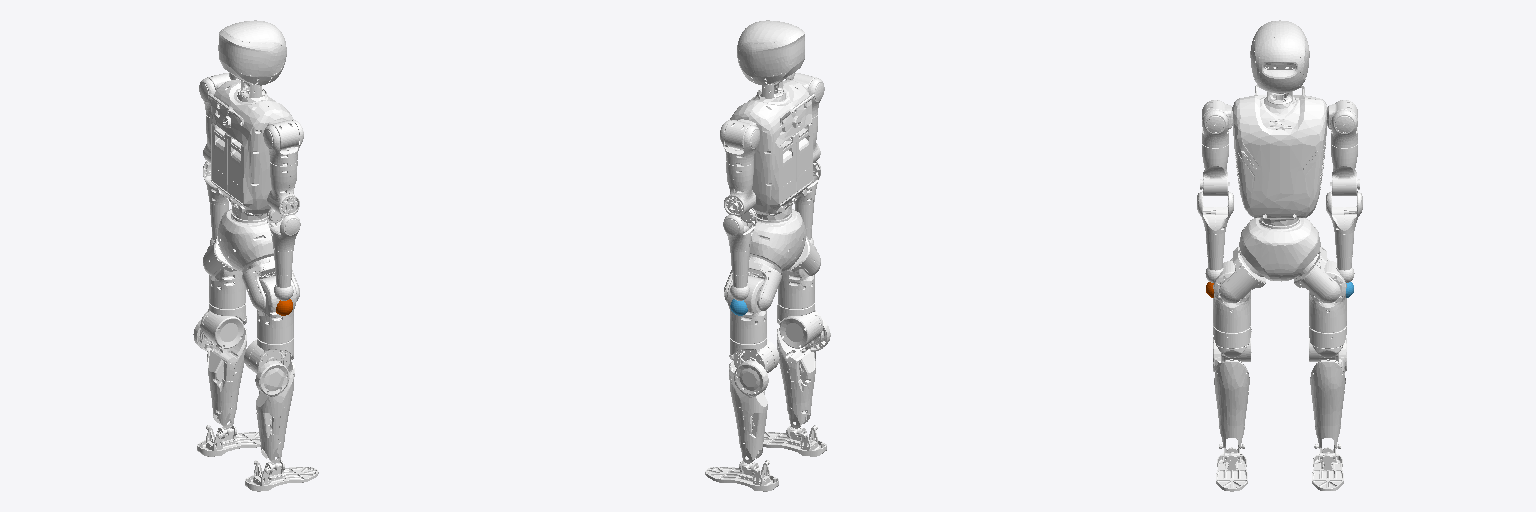
--- Render facts (derived) ---
Views: 3 orthographic renders of the robot side by side, from view 1: azimuth 30°, elevation 25°; view 2: azimuth 150°, elevation 25°; view 3: azimuth 270°, elevation 25°.
Model biped_s14 with 24 links and 23 joints (21 revolute, 2 fixed), rooted at base_link, posed all joints at 0.
Links seen in each view (by area): view 1: base_link, head_pitch, leg_r4_link, leg_l4_link, waist_yaw_link, zarm_r4_link, leg_r2_link, leg_l3_link, zarm_r3_link, leg_r6_link, leg_l2_link, leg_l6_link (+6 smaller); view 2: base_link, head_pitch, leg_l4_link, leg_r4_link, waist_yaw_link, zarm_l4_link, leg_l2_link, leg_r3_link, zarm_l3_link, leg_l6_link, leg_r2_link, leg_r6_link (+6 smaller); view 3: base_link, waist_yaw_link, head_pitch, leg_r4_link, leg_l4_link, zarm_r4_link, zarm_l4_link, leg_r2_link, leg_l2_link, zarm_r3_link, zarm_l3_link, leg_l1_link (+7 smaller).
Boxes of the visible links, x1,y1,x2,y2 form: base_link: (208,80,294,219); head_pitch: (218,20,286,85); leg_r4_link: (255,361,294,463); leg_l4_link: (193,319,246,428); waist_yaw_link: (218,209,273,272); zarm_r4_link: (267,208,300,315); leg_r2_link: (257,276,296,343); leg_l3_link: (200,303,246,348); zarm_r3_link: (267,161,299,216); leg_r6_link: (245,460,318,491); leg_l2_link: (207,244,245,308); leg_l6_link: (197,425,260,456); base_link: (729,80,815,219); head_pitch: (737,20,804,85); leg_l4_link: (729,360,768,463); leg_r4_link: (777,319,830,428); waist_yaw_link: (749,209,805,272); zarm_l4_link: (723,208,756,315); leg_l2_link: (727,276,766,343); leg_r3_link: (777,303,822,348); zarm_l3_link: (724,161,755,216); leg_l6_link: (705,460,778,491); leg_r2_link: (778,245,816,308); leg_r6_link: (763,425,826,456); base_link: (1232,85,1327,225); waist_yaw_link: (1239,218,1320,281); head_pitch: (1250,20,1309,92); leg_r4_link: (1213,337,1249,447); leg_l4_link: (1310,338,1346,447); zarm_r4_link: (1197,191,1233,297); zarm_l4_link: (1326,191,1362,297); leg_r2_link: (1213,261,1250,337); leg_l2_link: (1309,261,1346,337); zarm_r3_link: (1200,144,1229,195); zarm_l3_link: (1330,144,1359,195); leg_l1_link: (1294,247,1340,302).
Size in the robot's own frame: 0.2167 by 0.4233 by 1.24 metres.
Meshes: 24 distinct files referenced, 24 mesh visuals loaded (24 binary STL).

The robot description file, URDF, robot "biped_s14":
<?xml version='1.0' encoding='utf-8'?>
<robot name="biped_s14">
  <mujoco>
    <compiler meshdir="../meshes/" balanceinertia="true" discardvisual="false" />
  </mujoco>
  <!-- <link name="dummy_link" />   -->
  <link name="base_link">
    <inertial>
      <origin xyz="-0.00602072 -0.00050080 0.14657555" rpy="0 0 0" />
      <mass value="8.0177760" />
      <inertia ixx="0.08599049" ixy="0.0" ixz="0.0" iyy="0.06733455" iyz="0.0" izz="0.04204287" />
    </inertial>
    <visual>
      <origin xyz="0 0 0" rpy="0 0 0" />
      <geometry>
        <mesh filename="../meshes/torso.STL" />
      </geometry>
      <material name="1">
        <color rgba="1 1 1 1" />
      </material>
    </visual>
    <collision>
      <origin xyz="0.01 0 0.14" rpy="0 0 0" />
      <geometry>
        <box size="0.14 0.2 0.26" />
      </geometry>
    </collision>
    <collision>
      <origin xyz="-0.09 0 0.285" rpy="1.5708 0 0" />
      <geometry>
        <capsule radius="0.005" length="0.1" />
      </geometry>
    </collision>
  </link>
  <!-- <joint name="dummy_to_base_link" type="floating">
    <origin xyz="0 0 0" rpy="0 0 0" />
    <parent link="dummy_link" />
    <child link="base_link" />
  </joint> -->
  <link name="waist_yaw_link">
    <inertial>
      <origin xyz="0.00152560 0.00013413 -0.11927572" rpy="0 0 0" />
      <mass value="4.60775998" />
      <inertia ixx="0.02101970" ixy="0.0" ixz="0.0" iyy="0.01458628" iyz="0.0" izz="0.01454007" />
    </inertial>
    <visual>
      <origin xyz="0 0 0" rpy="0 0 0" />
      <geometry>
        <mesh filename="../meshes/waist.STL" />
      </geometry>
      <material name="">
        <color rgba="1 1 1 1" />
      </material>
    </visual>
    <collision>
      <origin xyz="0.005 0 -0.11" rpy="0.786 0 0" />
      <geometry>
        <box size="0.12 0.14 0.14" />
      </geometry>
    </collision>
  </link>
  <joint name="waist_yaw_joint" type="revolute">
    <origin xyz="0 0 0" rpy="0 0 0" />
    <parent link="base_link" />
    <child link="waist_yaw_link" />
    <axis xyz="0 0 1" />
    <limit lower="-2.61799387799149" upper="2.61799387799149" effort="50" velocity="8.37333333333333" />
  </joint>
  <link name="leg_l1_link">
    <inertial>
      <origin xyz="-0.00211316 -0.03290476 0.03337117" rpy="0 0 0" />
      <mass value="0.42877618" />
      <inertia ixx="0.00068733" ixy="0.00003303" ixz="-0.00003348" iyy="0.00109695" iyz="0.00004173" izz="0.00108874" />
    </inertial>
    <visual>
      <origin xyz="0 0 0" rpy="0 0 0" />
      <geometry>
        <mesh filename="../meshes/l_leg_pitch.STL" />
      </geometry>
      <material name="">
        <color rgba="1 1 1 1" />
      </material>
    </visual>
    <collision>
      <origin xyz="-0.007 -0.015 0.015" rpy="0.786 0 0" />
      <geometry>
        <box size="0.1 0.08 0.1" />
      </geometry>
    </collision>
  </link>
  <joint name="leg_l1_joint" type="revolute">
    <origin xyz="0.0 0.12151 -0.225" rpy="0 0 0" />
    <parent link="waist_yaw_link" />
    <child link="leg_l1_link" />
    <axis xyz="0 0.70711 -0.70711" />
    <limit lower="-3.228" upper="2.356" effort="180" velocity="23.55" />
    <dynamics damping="0.2" friction="0.1" />
  </joint>
  <link name="leg_l2_link">
    <inertial>
      <origin xyz="0.00559029 -0.00000102 -0.04097574" rpy="0 0 0" />
      <mass value="2.878" />
      <inertia ixx="0.00945700" ixy="0.00000006" ixz="-0.00062510" iyy="0.00895017" iyz="-0.00000229" izz="0.00346366" />
    </inertial>
    <visual>
      <origin xyz="0 0 0" rpy="0 0 0" />
      <geometry>
        <mesh filename="../meshes/l_leg_roll.STL" />
      </geometry>
      <material name="">
        <color rgba="1 1 1 1" />
      </material>
    </visual>
  </link>
  <joint name="leg_l2_joint" type="revolute">
    <origin xyz="0 0 0" rpy="0 0 0" />
    <parent link="leg_l1_link" />
    <child link="leg_l2_link" />
    <axis xyz="1 0 0" />
    <limit lower="-0.845961088441652" upper="2.41413942135856" effort="100" velocity="41.3433333333333" />
    <dynamics damping="0.2" friction="0.1" />
  </joint>
  <link name="leg_l3_link">
    <inertial>
      <origin xyz="-0.02467269 0.00082042 -0.20741352" rpy="0 0 0" />
      <mass value="1.686" />
      <inertia ixx="0.00234676" ixy="-0.00004675" ixz="-0.00029335" iyy="0.00304844" iyz="-0.00004121" izz="0.00239404" />
    </inertial>
    <visual>
      <origin xyz="0 0 0" rpy="0 0 0" />
      <geometry>
        <mesh filename="../meshes/l_leg_yaw.STL" />
      </geometry>
      <material name="">
        <color rgba="1 1 1 1" />
      </material>
    </visual>
    <collision>
      <origin xyz="-0.021 0 -0.182" rpy="1.57 0 0" />
      <geometry>
        <capsule radius="0.045" length="0.03" />
      </geometry>
    </collision>
  </link>
  <joint name="leg_l3_joint" type="revolute">
    <origin xyz="0 0 0" rpy="0 0 0" />
    <parent link="leg_l2_link" />
    <child link="leg_l3_link" />
    <axis xyz="0 0 1" />
    <limit lower="-1.658" upper="1.658" effort="100" velocity="41.3433333333333" />
    <dynamics damping="0.2" friction="0.1" />
  </joint>
  <link name="leg_l4_link">
    <inertial>
      <origin xyz="0.02466958 0.00364836 -0.12511514" rpy="0 0 0" />
      <mass value="2.0" />
      <inertia ixx="0.00661542" ixy="0.00007032" ixz="-0.00014937" iyy="0.00694493" iyz="-0.00045150" izz="0.00163682" />
    </inertial>
    <visual>
      <origin xyz="0 0 0" rpy="0 0 0" />
      <geometry>
        <mesh filename="../meshes/l_knee.STL" />
      </geometry>
      <material name="">
        <color rgba="1 1 1 1" />
      </material>
    </visual>
    <collision>
      <origin xyz="0.021 0 -0.13" rpy="0 0 0" />
      <geometry>
        <capsule radius="0.04" length="0.15" />
      </geometry>
    </collision>
    <collision>
      <origin xyz="0.07 0 0.01" rpy="1.57 0 0" />
      <geometry>
        <capsule radius="0.005" length="0.04" />
      </geometry>
    </collision>
    <collision>
      <origin xyz="0.072 0 -0.05" rpy="1.57 0 0" />
      <geometry>
        <capsule radius="0.005" length="0.02" />
      </geometry>
    </collision>
  </link>
  <joint name="leg_l4_joint" type="revolute">
    <origin xyz="-0.030 0 -0.213" rpy="0 0 0" />
    <parent link="leg_l3_link" />
    <child link="leg_l4_link" />
    <axis xyz="0 1 0" />
    <limit lower="0.0" upper="2.61799387799149" effort="180" velocity="23.55" />
    <dynamics damping="0.2" friction="0.1" />
  </joint>
  <link name="leg_l5_link">
    <inertial>
      <origin xyz="0.0 0.0 0.0" rpy="0 0 0" />
      <mass value="0.06923766 " />
      <inertia ixx="6.7e-06" ixy="0.0" ixz="0.0" iyy="6.7e-06" iyz="0.0" izz="1.172e-05" />
    </inertial>
    <visual>
      <origin xyz="0 0 0" rpy="0 0 0" />
      <geometry>
        <mesh filename="../meshes/l_foot_pitch.STL" />
      </geometry>
      <material name="">
        <color rgba="1 1 1 1" />
      </material>
    </visual>
  </link>
  <joint name="leg_l5_joint" type="revolute">
    <origin xyz="0.030 0 -0.270" rpy="0 0 0" />
    <parent link="leg_l4_link" />
    <child link="leg_l5_link" />
    <axis xyz="0 1 0" />
    <limit lower="-0.872664625997165" upper="0.523598775598299" effort="36" velocity="23.0266666666667" />
    <dynamics damping="0.2" friction="0.1" />
  </joint>
  <link name="leg_l6_link">
    <inertial>
      <origin xyz="-0.00410545 0 -0.03109022" rpy="0 0 0" />
      <mass value="0.4" />
      <inertia ixx="0.00020983" ixy="0.0" ixz="0.00010197" iyy="0.00090207" iyz="0.0" izz="0.00094979" />
    </inertial>
    <visual>
      <origin xyz="0 0 0" rpy="0 0 0" />
      <geometry>
        <mesh filename="../meshes/l_foot_roll.STL" />
      </geometry>
      <material name="">
        <color rgba="1 1 1 1" />
      </material>
    </visual>
    <collision>
      <origin xyz="0.082 0 -0.0475" rpy="0 0 0" />
      <geometry>
        <cylinder radius="0.04" length="0.008" />
      </geometry>
    </collision>
    <collision>
      <origin xyz="-0.045 0 -0.0475" rpy="0 0 0" />
      <geometry>
        <cylinder radius="0.04" length="0.008" />
      </geometry>
    </collision>
    <collision>
      <origin xyz="0.015 0 -0.0475" rpy="0 0 0" />
      <geometry>
        <box size="0.12 0.076 0.008" />
      </geometry>
    </collision>
  </link>
  <joint name="leg_l6_joint" type="revolute">
    <origin xyz="0 0 0" rpy="0 0 0" />
    <parent link="leg_l5_link" />
    <child link="leg_l6_link" />
    <axis xyz="1 0 0" />
    <limit lower="-0.261799387799149" upper="0.261799387799149" effort="36" velocity="23.0266666666667" />
    <dynamics damping="0.2" friction="0.1" />
  </joint>
  <link name="leg_r1_link">
    <inertial>
      <origin xyz="-0.00211316 0.03290476 0.03337117" rpy="0 0 0" />
      <mass value="0.42877618" />
      <inertia ixx="0.00068733" ixy="-0.00003303" ixz="-0.00003348" iyy="0.00109695" iyz="-0.00004173" izz="0.00108874" />
    </inertial>
    <visual>
      <origin xyz="0 0 0" rpy="0 0 0" />
      <geometry>
        <mesh filename="../meshes/r_leg_pitch.STL" />
      </geometry>
      <material name="">
        <color rgba="1 1 1 1" />
      </material>
    </visual>
    <collision>
      <origin xyz="-0.007 0.015 0.015" rpy="-0.786 0 0" />
      <geometry>
        <box size="0.1 0.08 0.1" />
      </geometry>
    </collision>
  </link>
  <joint name="leg_r1_joint" type="revolute">
    <origin xyz="0.0 -0.12151 -0.225" rpy="0 0 0" />
    <parent link="waist_yaw_link" />
    <child link="leg_r1_link" />
    <axis xyz="0 -0.70711 -0.70711" />
    <limit lower="-2.356" upper="3.228" effort="180" velocity="23.55" />
    <dynamics damping="0.2" friction="0.1" />
  </joint>
  <link name="leg_r2_link">
    <inertial>
      <origin xyz="0.00559029 0.00000102 -0.04097574" rpy="0 0 0" />
      <mass value="2.878" />
      <inertia ixx="0.00945700" ixy="-0.00000006" ixz="-0.00062510" iyy="0.00895017" iyz="0.00000229" izz="0.00346366" />
    </inertial>
    <visual>
      <origin xyz="0 0 0" rpy="0 0 0" />
      <geometry>
        <mesh filename="../meshes/r_leg_roll.STL" />
      </geometry>
      <material name="">
        <color rgba="1 1 1 1" />
      </material>
    </visual>
  </link>
  <joint name="leg_r2_joint" type="revolute">
    <origin xyz="0 0 0" rpy="0 0 0" />
    <parent link="leg_r1_link" />
    <child link="leg_r2_link" />
    <axis xyz="1 0 0" />
    <limit lower="-2.41413942135856" upper="0.847008285992848" effort="100" velocity="41.3433333333333" />
    <dynamics damping="0.2" friction="0.1" />
  </joint>
  <link name="leg_r3_link">
    <inertial>
      <origin xyz="-0.02467269 -0.00082042 -0.20741352" rpy="0 0 0" />
      <mass value="1.686" />
      <inertia ixx="0.00234676" ixy="0.00004675" ixz="-0.00029335" iyy="0.00304844" iyz="0.00004121" izz="0.00239404" />
    </inertial>
    <visual>
      <origin xyz="0 0 0" rpy="0 0 0" />
      <geometry>
        <mesh filename="../meshes/r_leg_yaw.STL" />
      </geometry>
      <material name="">
        <color rgba="1 1 1 1" />
      </material>
    </visual>
    <collision>
      <origin xyz="-0.021 0 -0.182" rpy="1.57 0 0" />
      <geometry>
        <capsule radius="0.045" length="0.03" />
      </geometry>
    </collision>
  </link>
  <joint name="leg_r3_joint" type="revolute">
    <origin xyz="0 0 0" rpy="0 0 0" />
    <parent link="leg_r2_link" />
    <child link="leg_r3_link" />
    <axis xyz="0 0 1" />
    <limit lower="-1.658" upper="1.658" effort="100" velocity="41.3433333333333" />
    <dynamics damping="0.2" friction="0.1" />
  </joint>
  <link name="leg_r4_link">
    <inertial>
      <origin xyz="0.02466958 -0.00364836 -0.12511514" rpy="0 0 0" />
      <mass value="2.0" />
      <inertia ixx="0.00661542" ixy="-0.00007032" ixz="-0.00014937" iyy="0.00694493" iyz="0.00045150" izz="0.00163682" />
    </inertial>
    <visual>
      <origin xyz="0 0 0" rpy="0 0 0" />
      <geometry>
        <mesh filename="../meshes/r_knee.STL" />
      </geometry>
      <material name="">
        <color rgba="1 1 1 1" />
      </material>
    </visual>
    <collision>
      <origin xyz="0.021 0 -0.13" rpy="0 0 0" />
      <geometry>
        <capsule radius="0.04" length="0.15" />
      </geometry>
    </collision>
    <collision>
      <origin xyz="0.07 0 0.01" rpy="1.57 0 0" />
      <geometry>
        <capsule radius="0.005" length="0.04" />
      </geometry>
    </collision>
    <collision>
      <origin xyz="0.072 0 -0.05" rpy="1.57 0 0" />
      <geometry>
        <capsule radius="0.005" length="0.02" />
      </geometry>
    </collision>
  </link>
  <joint name="leg_r4_joint" type="revolute">
    <origin xyz="-0.030 0 -0.213" rpy="0 0 0" />
    <parent link="leg_r3_link" />
    <child link="leg_r4_link" />
    <axis xyz="0 1 0" />
    <limit lower="0.0" upper="2.61799387799149" effort="180" velocity="23.55" />
    <dynamics damping="0.2" friction="0.1" />
  </joint>
  <link name="leg_r5_link">
    <inertial>
      <origin xyz="0.0 0.0 0.0" rpy="0 0 0" />
      <mass value="0.06923766 " />
      <inertia ixx="6.7e-06" ixy="-0.0" ixz="0.0" iyy="6.7e-06" iyz="-0.0" izz="1.172e-05" />
    </inertial>
    <visual>
      <origin xyz="0 0 0" rpy="0 0 0" />
      <geometry>
        <mesh filename="../meshes/r_foot_pitch.STL" />
      </geometry>
      <material name="">
        <color rgba="1 1 1 1" />
      </material>
    </visual>
  </link>
  <joint name="leg_r5_joint" type="revolute">
    <origin xyz="0.030 0 -0.270" rpy="0 0 0" />
    <parent link="leg_r4_link" />
    <child link="leg_r5_link" />
    <axis xyz="0 1 0" />
    <limit lower="-0.872664625997165" upper="0.523598775598299" effort="36" velocity="23.0266666666667" />
    <dynamics damping="0.2" friction="0.1" />
  </joint>
  <link name="leg_r6_link">
    <inertial>
      <origin xyz="-0.00410545 0 -0.03109022" rpy="0 0 0" />
      <mass value="0.4" />
      <inertia ixx="0.00020983" ixy="-0.0" ixz="0.00010197" iyy="0.00090207" iyz="-0.0" izz="0.00094979" />
    </inertial>
    <visual>
      <origin xyz="0 0 0" rpy="0 0 0" />
      <geometry>
        <mesh filename="../meshes/r_foot_roll.STL" />
      </geometry>
      <material name="">
        <color rgba="1 1 1 1" />
      </material>
    </visual>
    <collision>
      <origin xyz="0.082 0 -0.0475" rpy="0 0 0" />
      <geometry>
        <cylinder radius="0.04" length="0.008" />
      </geometry>
    </collision>
    <collision>
      <origin xyz="-0.045 0 -0.0475" rpy="0 0 0" />
      <geometry>
        <cylinder radius="0.04" length="0.008" />
      </geometry>
    </collision>
    <collision>
      <origin xyz="0.015 0 -0.0475" rpy="0 0 0" />
      <geometry>
        <box size="0.12 0.076 0.008" />
      </geometry>
    </collision>
  </link>
  <joint name="leg_r6_joint" type="revolute">
    <origin xyz="0 0 0" rpy="0 0 0" />
    <parent link="leg_r5_link" />
    <child link="leg_r6_link" />
    <axis xyz="1 0 0" />
    <limit lower="-0.261799387799149" upper="0.261799387799149" effort="36" velocity="23.0266666666667" />
    <dynamics damping="0.2" friction="0.1" />
  </joint>
  <link name="zarm_l1_link">
    <inertial>
      <origin xyz="0.00360552 -0.00144553 0.00001956" rpy="0 0 0" />
      <mass value="0.37301570 " />
      <inertia ixx="0.00011508" ixy="0." ixz="0." iyy="0.00013133" iyz="0." izz="0.00015171" />
    </inertial>
    <visual>
      <origin xyz="0 0 0" rpy="0 0 0" />
      <geometry>
        <mesh filename="../meshes/l_arm_pitch.STL" />
      </geometry>
      <material name="">
        <color rgba="1 1 1 1" />
      </material>
    </visual>
    <collision>
      <origin xyz="0 0 0" rpy="0 1.5708 0" />
      <geometry>
        <capsule radius="0.035" length="0.04" />
      </geometry>
    </collision>
  </link>
  <joint name="zarm_l1_joint" type="revolute">
    <origin xyz="0.00029999 0.16350292 0.23992606" rpy="0 0 0" />
    <parent link="base_link" />
    <child link="zarm_l1_link" />
    <axis xyz="0 1 0" />
    <limit lower="-3.14159265358979" upper="2.0943951023932" effort="12" velocity="7.32666666666667" />
    <dynamics damping="0.2" friction="0.1" />
  </joint>
  <link name="zarm_l2_link">
    <inertial>
      <origin xyz="0.00089424 0 -0.04238937" rpy="0 0 0" />
      <mass value="0.15112869" />
      <inertia ixx="0.00018029" ixy="0.0" ixz="0." iyy="0.00022693" iyz="0.0" izz="0.00015001" />
    </inertial>
    <visual>
      <origin xyz="0 0 0" rpy="0 0 0" />
      <geometry>
        <mesh filename="../meshes/l_arm_roll.STL" />
      </geometry>
      <material name="">
        <color rgba="1 1 1 1" />
      </material>
    </visual>
  </link>
  <joint name="zarm_l2_joint" type="revolute">
    <origin xyz="0 0 0" rpy="0 0 0" />
    <parent link="zarm_l1_link" />
    <child link="zarm_l2_link" />
    <axis xyz="1 0 0" />
    <limit lower="-0.349065850398866" upper="3.49065850398866" effort="12" velocity="7.32666666666667" />
    <dynamics damping="0.2" friction="0.1" />
  </joint>
  <link name="zarm_l3_link">
    <inertial>
      <origin xyz="-0.00011141 -0.00359387 -0.14417629" rpy="0 0 0" />
      <mass value="0.66922333 " />
      <inertia ixx="0.00170115" ixy="0." ixz="0." iyy="0.00172455" iyz="0." izz="0.00031003" />
    </inertial>
    <visual>
      <origin xyz="0 0 0" rpy="0 0 0" />
      <geometry>
        <mesh filename="../meshes/l_arm_yaw.STL" />
      </geometry>
      <material name="">
        <color rgba="1 1 1 1" />
      </material>
    </visual>
    <collision>
      <origin xyz="0 0 -0.1" rpy="0 0 0" />
      <geometry>
        <capsule radius="0.035" length="0.04" />
      </geometry>
    </collision>
  </link>
  <joint name="zarm_l3_joint" type="revolute">
    <origin xyz="0 0 0" rpy="0 0 0" />
    <parent link="zarm_l2_link" />
    <child link="zarm_l3_link" />
    <axis xyz="0 0 1" />
    <limit lower="-1.5707963267949" upper="1.5707963267949" effort="12" velocity="7.32666666666667" />
    <dynamics damping="0.2" friction="0.1" />
  </joint>
  <link name="zarm_l4_link">
    <inertial>
      <origin xyz="-0.00053745 -0.00090249 -0.09492575" rpy="0 0 0" />
      <mass value="0.16269441 " />
      <inertia ixx="0.00085779" ixy="0." ixz="0." iyy="0.00081091" iyz="0." izz="0.00012103" />
    </inertial>
    <visual>
      <origin xyz="0 0 0" rpy="0 0 0" />
      <geometry>
        <mesh filename="../meshes/l_forearm.STL" />
      </geometry>
      <material name="">
        <color rgba="1 1 1 1" />
        </material>
      </visual>
    <visual>
      <origin xyz="0 0 -0.240" rpy="0 0 0" />
      <geometry>
        <sphere radius="0.025" />
      </geometry>
    </visual>
    <collision>
      <origin xyz="0 0 0" rpy="1.57 0 0" />
      <geometry>
        <capsule radius="0.03" length="0.03" />
      </geometry>
    </collision>
    <collision>
      <origin xyz="0 0 -0.12" rpy="0 0 0" />
      <geometry>
        <capsule radius="0.025" length="0.155" />
      </geometry>
    </collision>
    <collision>
      <origin xyz="0 0 -0.240" rpy="0 0 0" />
      <geometry>
        <sphere radius="0.025" />
      </geometry>
    </collision>
  </link>
  <joint name="zarm_l4_joint" type="revolute">
    <origin xyz="0 0 -0.240" rpy="0 0 0" />
    <parent link="zarm_l3_link" />
    <child link="zarm_l4_link" />
    <axis xyz="0 1 0" />
    <limit lower="-2.26892802759263" upper="0.0" effort="12" velocity="7.32666666666667" />
    <dynamics damping="0.2" friction="0.1" />
  </joint>
  <link name="zarm_r1_link">
    <inertial>
      <origin xyz="0.00360552 0.00144553 0.00001956" rpy="0 0 0" />
      <mass value="0.37301570 " />
      <inertia ixx="0.00011508" ixy="0." ixz="0." iyy="0.00013133" iyz="0." izz="0.00015171" />
    </inertial>
    <visual>
      <origin xyz="0 0 0" rpy="0 0 0" />
      <geometry>
        <mesh filename="../meshes/r_arm_pitch.STL" />
      </geometry>
      <material name="">
        <color rgba="1 1 1 1" />
      </material>
    </visual>
    <collision>
      <origin xyz="0 0 0" rpy="0 1.5708 0" />
      <geometry>
        <capsule radius="0.035" length="0.04" />
      </geometry>
    </collision>
  </link>
  <joint name="zarm_r1_joint" type="revolute">
    <origin xyz="0.00029999 -0.16350292 0.23992606" rpy="0 0 0" />
    <parent link="base_link" />
    <child link="zarm_r1_link" />
    <axis xyz="0 1 0" />
    <limit lower="-3.14159265358979" upper="2.0943951023932" effort="12" velocity="7.32666666666667" />
    <dynamics damping="0.2" friction="0.1" />
  </joint>
  <link name="zarm_r2_link">
    <inertial>
      <origin xyz="0.00089424 0 -0.04238937" rpy="0 0 0" />
      <mass value="0.15112869" />
      <inertia ixx="0.00018029" ixy="0.0" ixz="0." iyy="0.00022693" iyz="0.0" izz="0.00015001" />
    </inertial>
    <visual>
      <origin xyz="0 0 0" rpy="0 0 0" />
      <geometry>
        <mesh filename="../meshes/r_arm_roll.STL" />
      </geometry>
      <material name="">
        <color rgba="1 1 1 1" />
      </material>
    </visual>
  </link>
  <joint name="zarm_r2_joint" type="revolute">
    <origin xyz="0 0 0" rpy="0 0 0" />
    <parent link="zarm_r1_link" />
    <child link="zarm_r2_link" />
    <axis xyz="1 0 0" />
    <limit lower="-3.49065850398866" upper="0.349065850398866" effort="12" velocity="7.32666666666667" />
    <dynamics damping="0.2" friction="0.1" />
  </joint>
  <link name="zarm_r3_link">
    <inertial>
      <origin xyz="-0.00011141 0.00359387 -0.14417629" rpy="0 0 0" />
      <mass value="0.66922333 " />
      <inertia ixx="0.00170115" ixy="0." ixz="0." iyy="0.00172455" iyz="0." izz="0.00031003" />
    </inertial>
    <visual>
      <origin xyz="0 0 0" rpy="0 0 0" />
      <geometry>
        <mesh filename="../meshes/r_arm_yaw.STL" />
      </geometry>
      <material name="">
        <color rgba="1 1 1 1" />
      </material>
    </visual>
    <collision>
      <origin xyz="0 0 -0.1" rpy="0 0 0" />
      <geometry>
        <capsule radius="0.035" length="0.04" />
      </geometry>
    </collision>
  </link>
  <joint name="zarm_r3_joint" type="revolute">
    <origin xyz="0 0 0" rpy="0 0 0" />
    <parent link="zarm_r2_link" />
    <child link="zarm_r3_link" />
    <axis xyz="0 0 1" />
    <limit lower="-1.5707963267949" upper="1.5707963267949" effort="12" velocity="7.32666666666667" />
    <dynamics damping="0.2" friction="0.1" />
  </joint>
  <link name="zarm_r4_link">
    <inertial>
      <origin xyz="-0.00053745 0.00090249 -0.09492575" rpy="0 0 0" />
      <mass value="0.16269441 " />
      <inertia ixx="0.00085779" ixy="0." ixz="0." iyy="0.00081091" iyz="0." izz="0.00012103" />
    </inertial>
    <visual>
      <origin xyz="0 0 0" rpy="0 0 0" />
      <geometry>
        <mesh filename="../meshes/r_forearm.STL" />
      </geometry>
      <material name="">
        <color rgba="1 1 1 1" />
      </material>
    </visual>
    <visual>
      <origin xyz="0 0 -0.240" rpy="0 0 0" />
      <geometry>
        <sphere radius="0.025" />
      </geometry>
    </visual>
    <collision>
      <origin xyz="0 0 0" rpy="1.57 0 0" />
      <geometry>
        <capsule radius="0.03" length="0.03" />
      </geometry>
    </collision>
    <collision>
      <origin xyz="0 0 -0.12" rpy="0 0 0" />
      <geometry>
        <capsule radius="0.025" length="0.155" />
      </geometry>
    </collision>
    <collision>
      <origin xyz="0 0 -0.240" rpy="0 0 0" />
      <geometry>
        <sphere radius="0.025" />
      </geometry>
    </collision>
  </link>
  <joint name="zarm_r4_joint" type="revolute">
    <origin xyz="0 0 -0.240" rpy="0 0 0" />
    <parent link="zarm_r3_link" />
    <child link="zarm_r4_link" />
    <axis xyz="0 1 0" />
    <limit lower="-2.26892802759263" upper="0.0" effort="12" velocity="7.32666666666667" />
    <dynamics damping="0.2" friction="0.1" />
  </joint>
  <link
    name="head_yaw">
    <inertial>
      <origin
        xyz="-0.00081546 0.0 0.01680967"
        rpy="0 0 0" />
      <mass
        value="1.03077542" />
      <inertia
        ixx="0.00215600"
        ixy="0"
        ixz="0."
        iyy="0.00189151"
        iyz="0."
        izz="0.00071659" />
    </inertial>
    <visual>
      <origin
        xyz="0 0 0"
        rpy="0 0 0" />
      <geometry>
        <mesh
          filename="../meshes/head_yaw.STL" />
      </geometry>
      <material
        name="">
        <color
          rgba="1 1 1 1" />
      </material>
    </visual>
  </link>
  <joint
    name="head_yaw"
    type="fixed">
    <origin
      xyz="0.004 0 0.35618"
      rpy="0 0 0" />
    <parent
      link="base_link" />
    <child
      link="head_yaw" />
    <axis
      xyz="0 0 1" />
  </joint>
  <link
    name="head_pitch">
    <inertial>
      <origin
        xyz="0.01466399 0.0 0.05742895"
        rpy="0 0 0" />
      <mass
        value="0.33654975 " />
      <inertia
        ixx="0.00119625"
        ixy="0."
        ixz="0."
        iyy="0.00141557"
        iyz="0."
        izz="0.00150717" />
    </inertial>
    <visual>
      <origin
        xyz="0 0 0"
        rpy="0 0 0" />
      <geometry>
        <mesh
          filename="../meshes/head_pitch.STL" />
      </geometry>
      <material
        name="">
        <color
          rgba="1 1 1 1" />
      </material>
    </visual>
    <collision>
      <origin xyz="0 0 0.035" rpy="0 0 0" />
      <geometry>
        <sphere radius="0.075" />
      </geometry>
    </collision>
  </link>
  <joint
    name="head_pitch"
    type="fixed">
    <origin
      xyz="0 0 0"
      rpy="0 0 0" />
    <parent
      link="head_yaw" />
    <child
      link="head_pitch" />
    <axis
      xyz="0 1 0" />
  </joint>
</robot>
